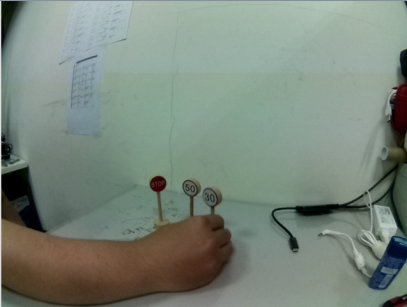Speed30: (202, 184, 223, 208)
Speed50: (180, 178, 201, 199)
Stop: (149, 173, 167, 195)
